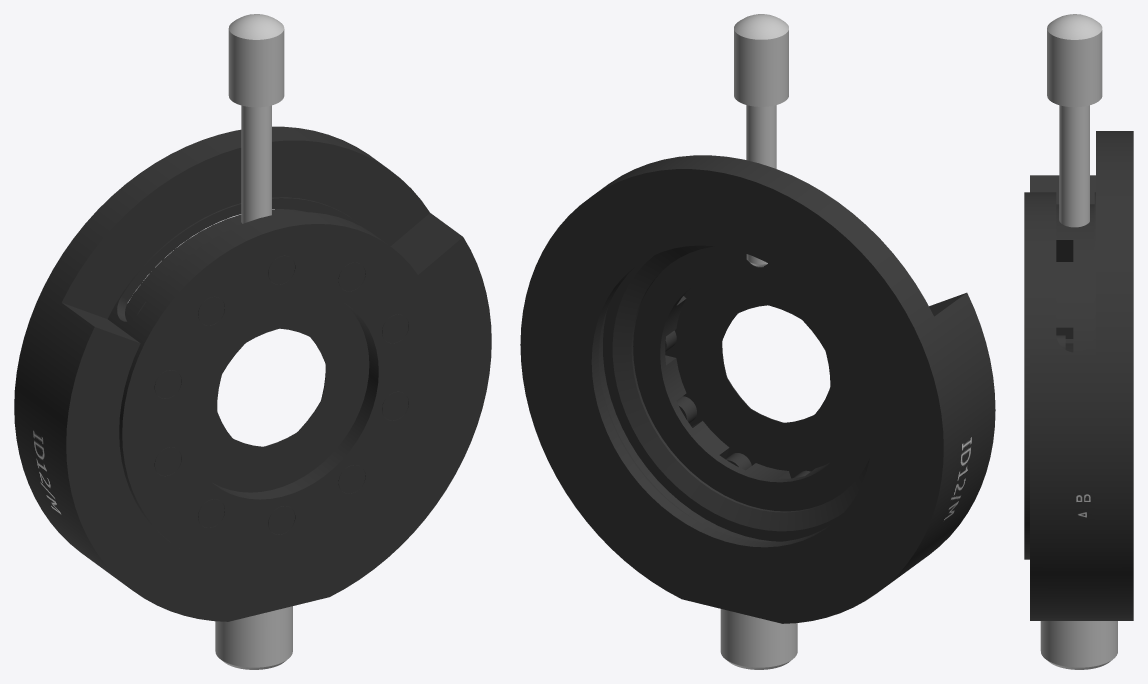
The picture shows the model from 3 angles, left to right: view 1: azimuth 30°, elevation 25°; view 2: azimuth 150°, elevation 25°; view 3: azimuth 270°, elevation 25°; orthographic projection.
Parts seen in each view (by area): view 1: housing, actuator, blade_10, blade_05, blade_07, blade_09, blade_02, blade_03, blade_08, blade_01, blade_06, blade_04; view 2: housing, actuator, blade_01, blade_09, blade_10, blade_08, blade_06, blade_07, blade_02, blade_03, blade_05, blade_04; view 3: housing, actuator.
Part boxes in pixels (left/top/right/bottom): housing: left=14, top=126, right=491, bottom=669; actuator: left=125, top=14, right=307, bottom=321; blade_10: left=268, top=255, right=368, bottom=484; blade_05: left=185, top=296, right=294, bottom=534; blade_07: left=185, top=382, right=408, bottom=492; blade_09: left=214, top=262, right=368, bottom=488; blade_02: left=154, top=291, right=369, bottom=399; blade_03: left=154, top=291, right=364, bottom=475; blade_08: left=187, top=314, right=408, bottom=491; blade_01: left=198, top=291, right=369, bottom=455; blade_06: left=185, top=333, right=365, bottom=493; blade_04: left=186, top=291, right=329, bottom=527; housing: left=520, top=155, right=995, bottom=669; actuator: left=603, top=14, right=872, bottom=541; blade_01: left=665, top=274, right=781, bottom=434; blade_09: left=677, top=281, right=813, bottom=477; blade_10: left=671, top=273, right=777, bottom=470; blade_08: left=665, top=312, right=852, bottom=470; blade_06: left=715, top=346, right=853, bottom=478; blade_07: left=678, top=369, right=854, bottom=470; blade_02: left=665, top=274, right=777, bottom=375; blade_03: left=682, top=273, right=844, bottom=357; blade_05: left=772, top=301, right=853, bottom=472; blade_04: left=721, top=274, right=854, bottom=448; housing: left=1024, top=131, right=1133, bottom=669; actuator: left=1047, top=14, right=1102, bottom=352.
Size of the model in its own units: 0.0264 by 0.0379 by 0.00589.
Materials: 3 (1 with a texture image).
